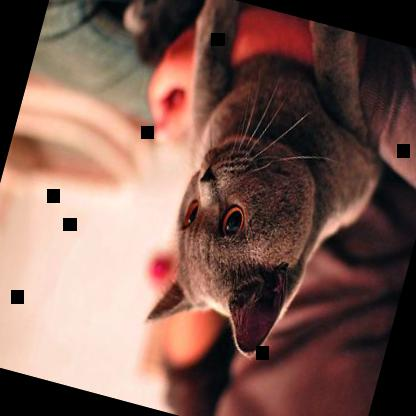cat: (59, 0, 415, 376)
